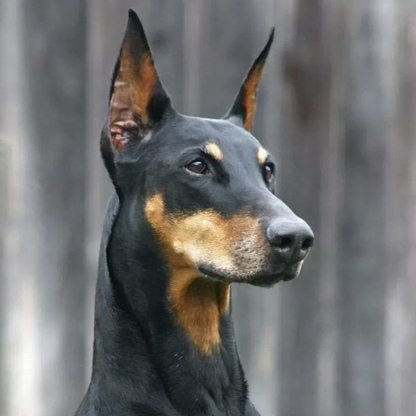doberman: (85, 8, 326, 416)
